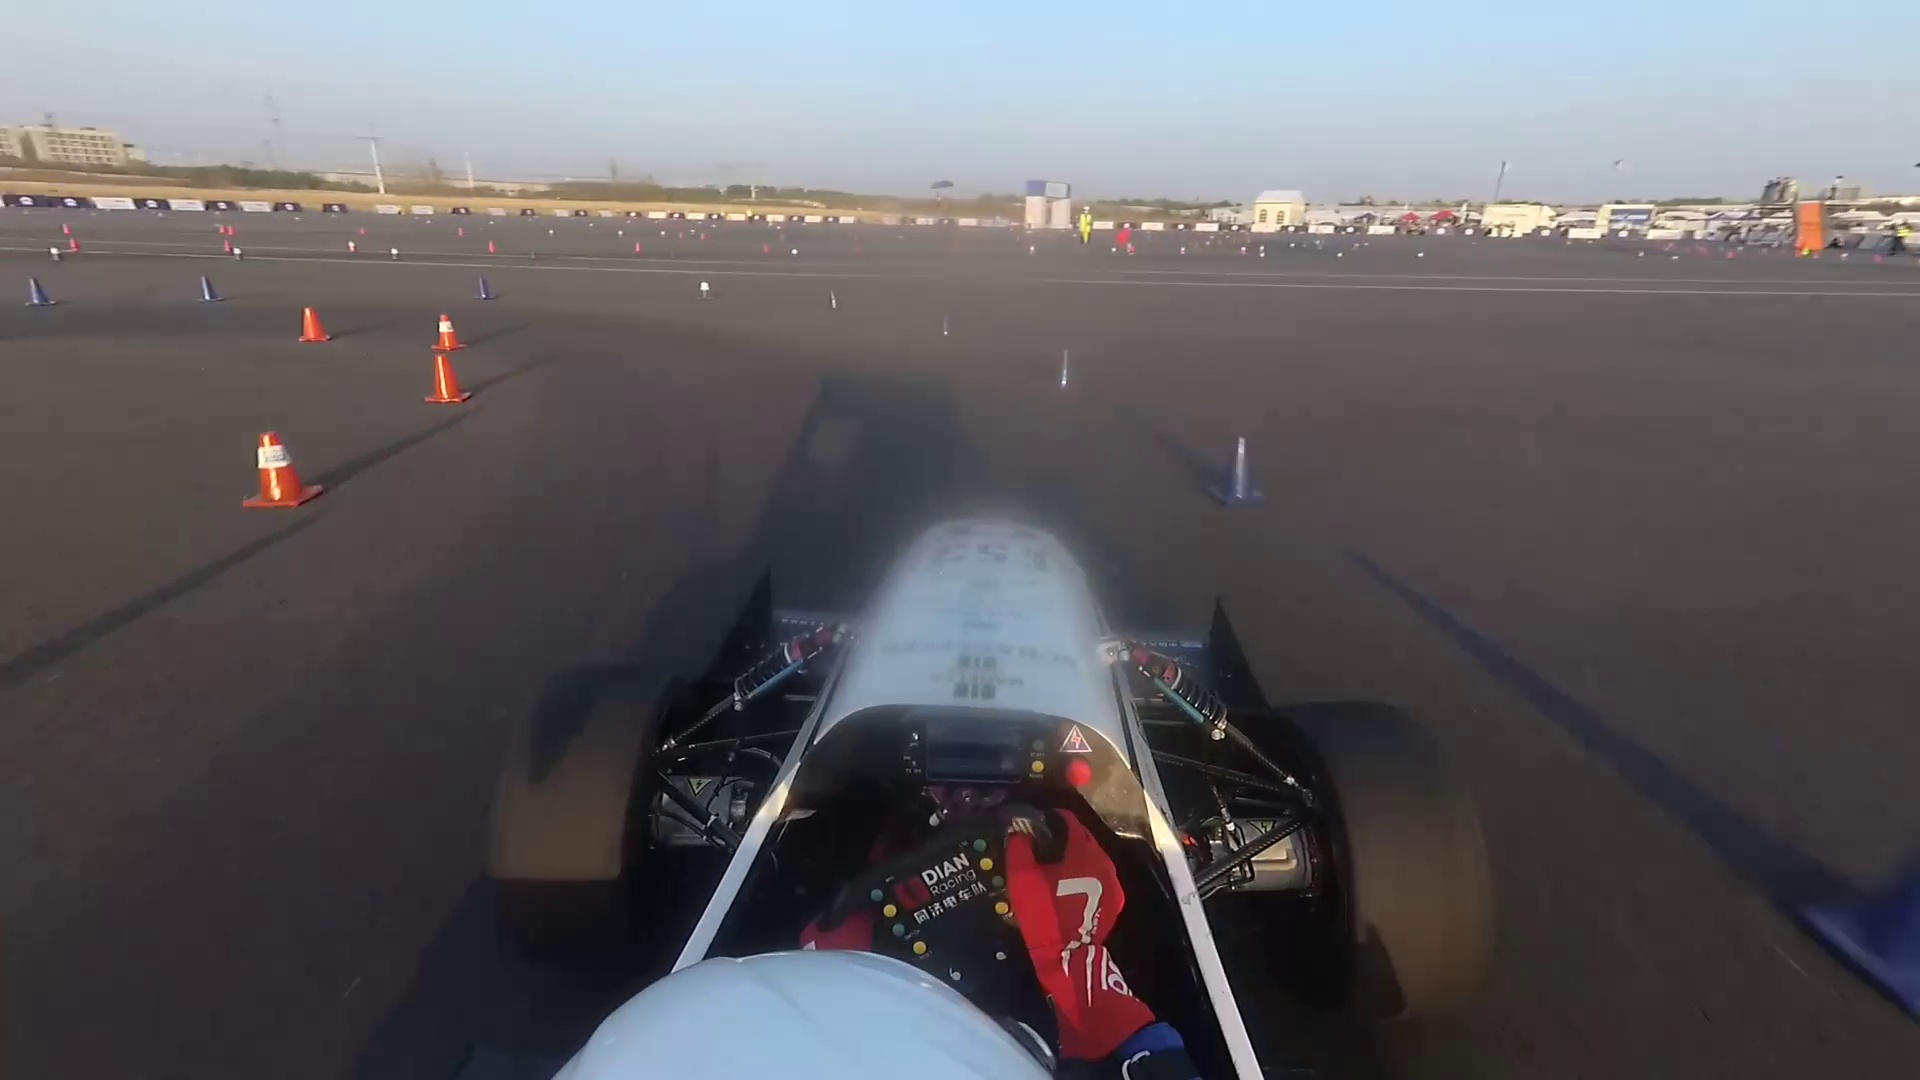blue_cone: (1212, 436, 1261, 505), (195, 274, 222, 305), (1052, 349, 1071, 390), (21, 278, 47, 306), (696, 278, 716, 303), (473, 278, 495, 301), (44, 245, 63, 268), (936, 316, 949, 342), (827, 291, 840, 314), (388, 247, 401, 266), (235, 247, 244, 265)
red_cone: (244, 433, 311, 508), (425, 357, 464, 409), (297, 306, 334, 342), (433, 313, 455, 351)
